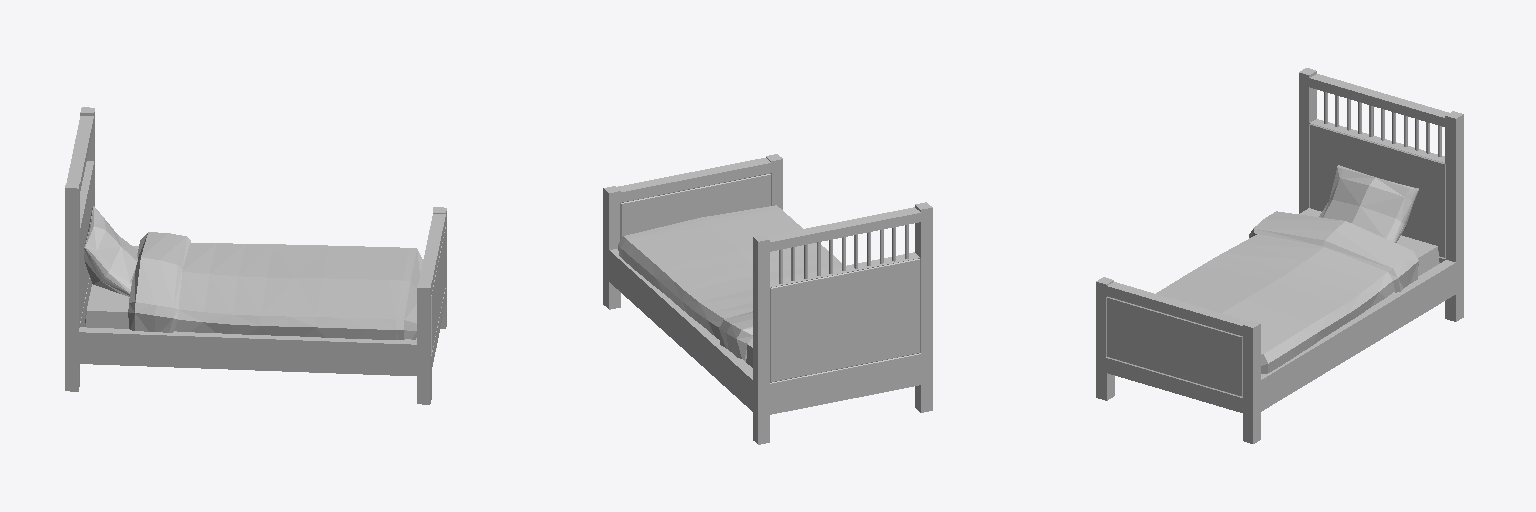
The model's file is bed.obj.
3 views of the same model, side by side, from view 1: azimuth 30°, elevation 25°; view 2: azimuth 150°, elevation 25°; view 3: azimuth 270°, elevation 25° (orthographic).
Parts seen in each view (by area): view 1: Box01, Object11, Box04, Box02; view 2: Object11, Box01; view 3: Object11, Box01, Box04, Box02.
Boxes of the visible parts, <box> form: Box01: <box>128,232,422,339</box>; Object11: <box>65,107,446,404</box>; Box04: <box>84,206,137,296</box>; Box02: <box>85,246,138,328</box>; Object11: <box>603,154,932,444</box>; Box01: <box>618,205,841,361</box>; Object11: <box>1096,68,1463,443</box>; Box01: <box>1156,211,1418,373</box>; Box04: <box>1319,165,1418,242</box>; Box02: <box>1299,208,1439,275</box>.
Size of the model in its own units: 2216 by 1210 by 1985.